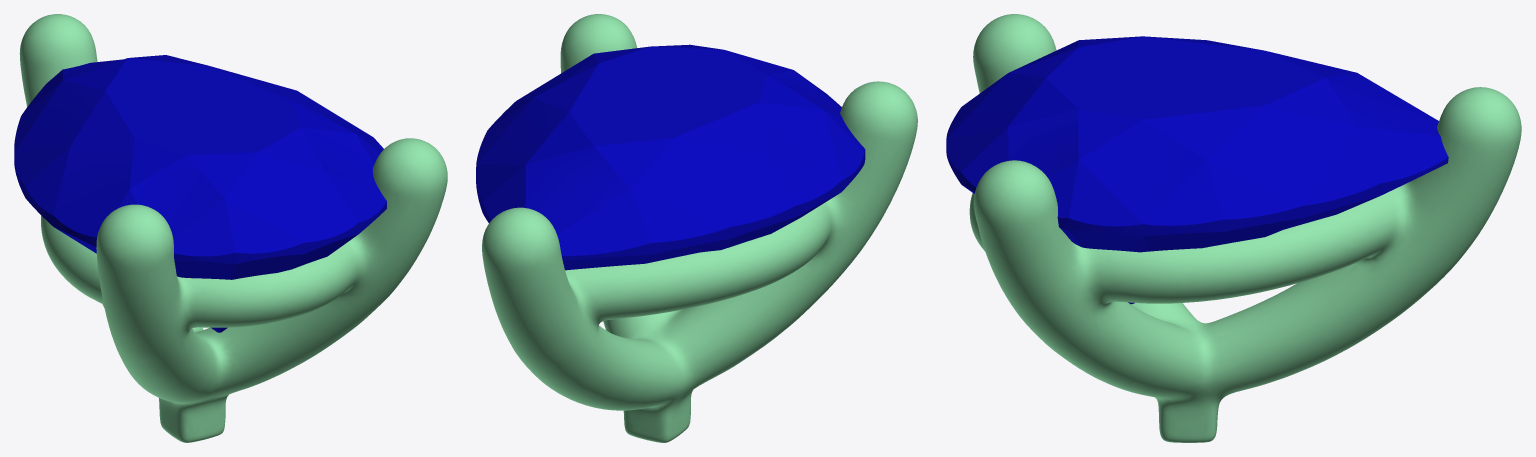
File: Pear.glb
3 views of the same model, side by side, from view 1: azimuth 30°, elevation 25°; view 2: azimuth 150°, elevation 25°; view 3: azimuth 270°, elevation 25° (orthographic). The views are drawn at different scales.
Parts seen in each view (by area): view 1: Diamond_Pear, GSMOD388300-_4_PRONG_PEAR_IJ3dm; view 2: Diamond_Pear, GSMOD388300-_4_PRONG_PEAR_IJ3dm; view 3: GSMOD388300-_4_PRONG_PEAR_IJ3dm, Diamond_Pear.
Part boxes in pixels (box(x1,y1,x2,y2)): Diamond_Pear: box(14, 55, 386, 332); GSMOD388300-_4_PRONG_PEAR_IJ3dm: box(19, 14, 447, 442); Diamond_Pear: box(476, 44, 865, 270); GSMOD388300-_4_PRONG_PEAR_IJ3dm: box(482, 14, 917, 442); GSMOD388300-_4_PRONG_PEAR_IJ3dm: box(969, 14, 1521, 442); Diamond_Pear: box(946, 36, 1448, 304).
Size of the model in its own units: 7.48 by 6.87 by 10.08.
